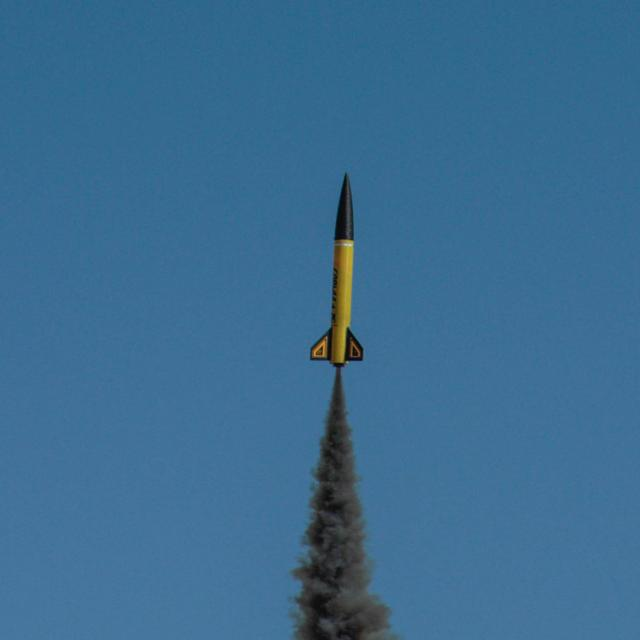Rocket: (308, 170, 366, 368)
